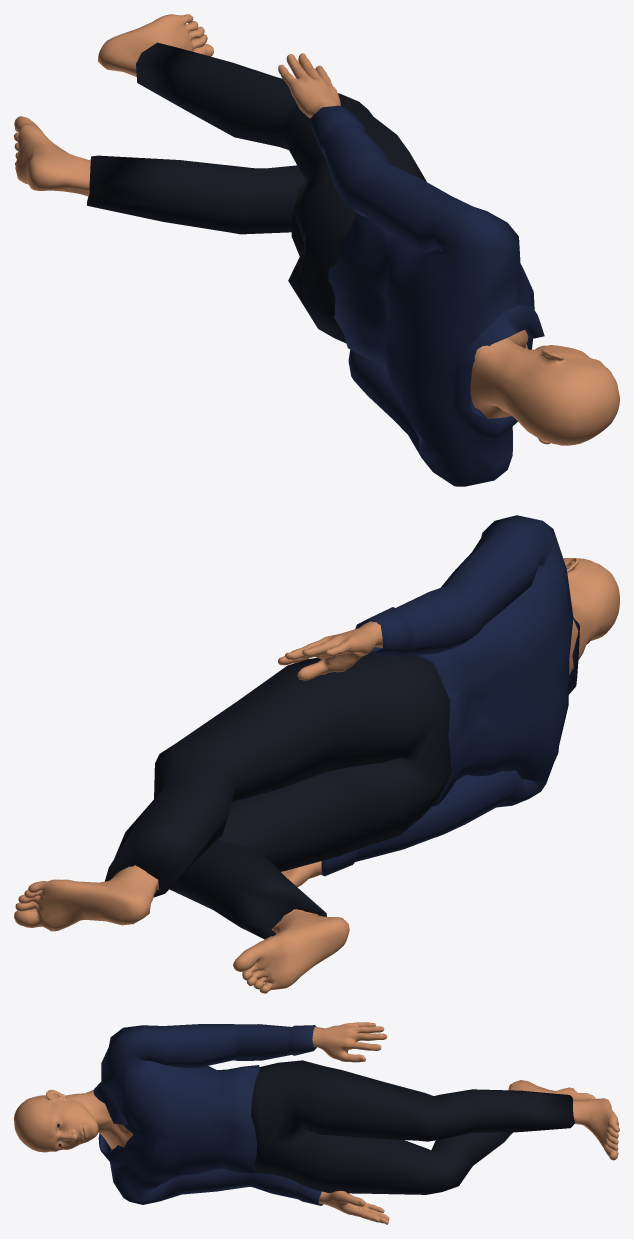
The model's file is walk.obj.
3 renders of one model, top to bottom at view 1: azimuth 30°, elevation 25°; view 2: azimuth 150°, elevation 25°; view 3: azimuth 270°, elevation 25°, orthographic. The views are drawn at different scales.
Bounding box in the file's own units: 0.5197 × 0.5473 × 1.69.
